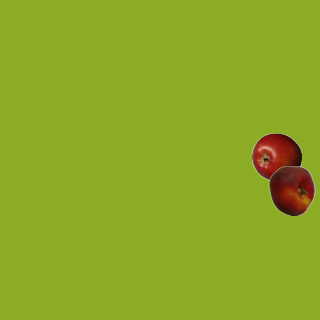Apple Braeburn: (251, 132, 301, 182)
Nectarine Flat: (266, 165, 316, 215)
